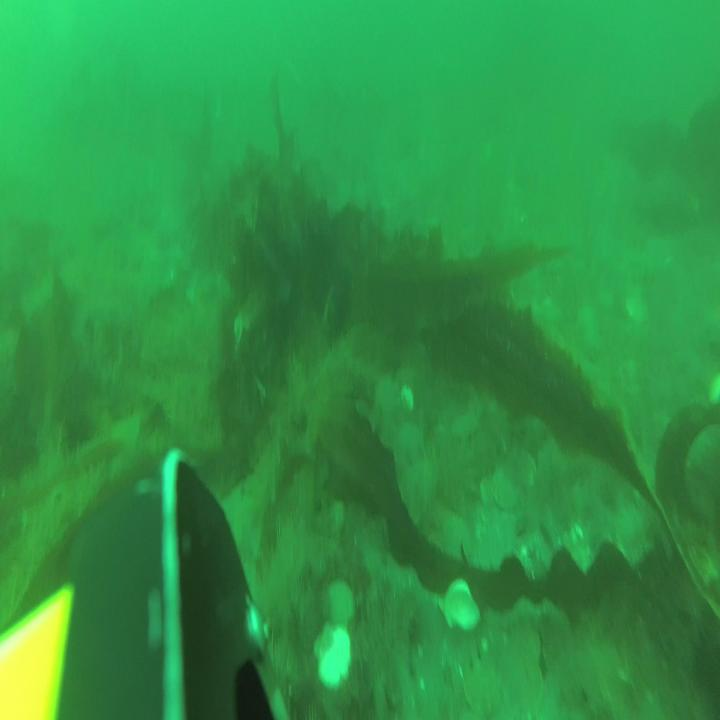scallop: (312, 616, 356, 690), (435, 568, 483, 634), (462, 660, 503, 714), (509, 659, 546, 718), (324, 576, 358, 637), (494, 462, 522, 513), (516, 624, 544, 673), (624, 290, 650, 328), (516, 447, 538, 490), (451, 412, 481, 442), (478, 468, 497, 512)
